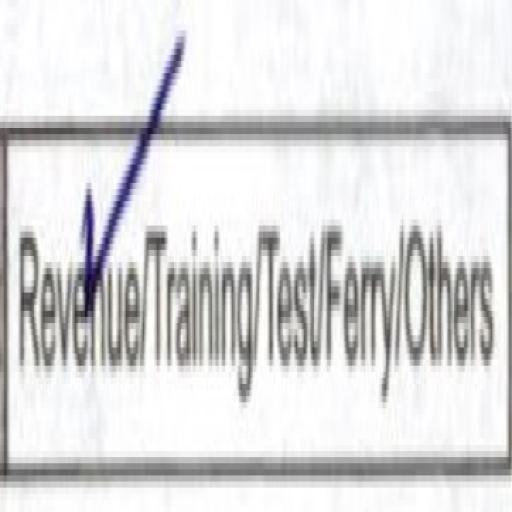check: (0, 11, 143, 512)
